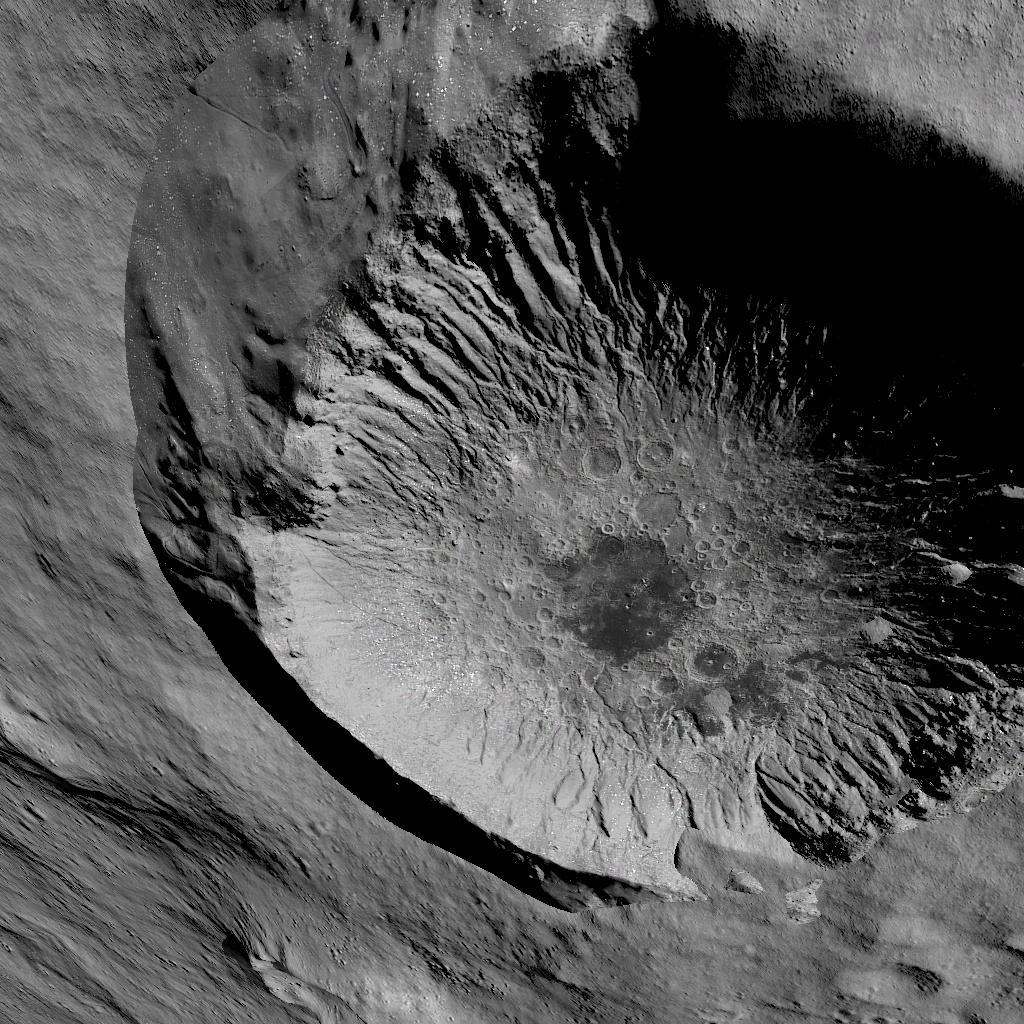Crater: (115, 0, 1024, 937)
